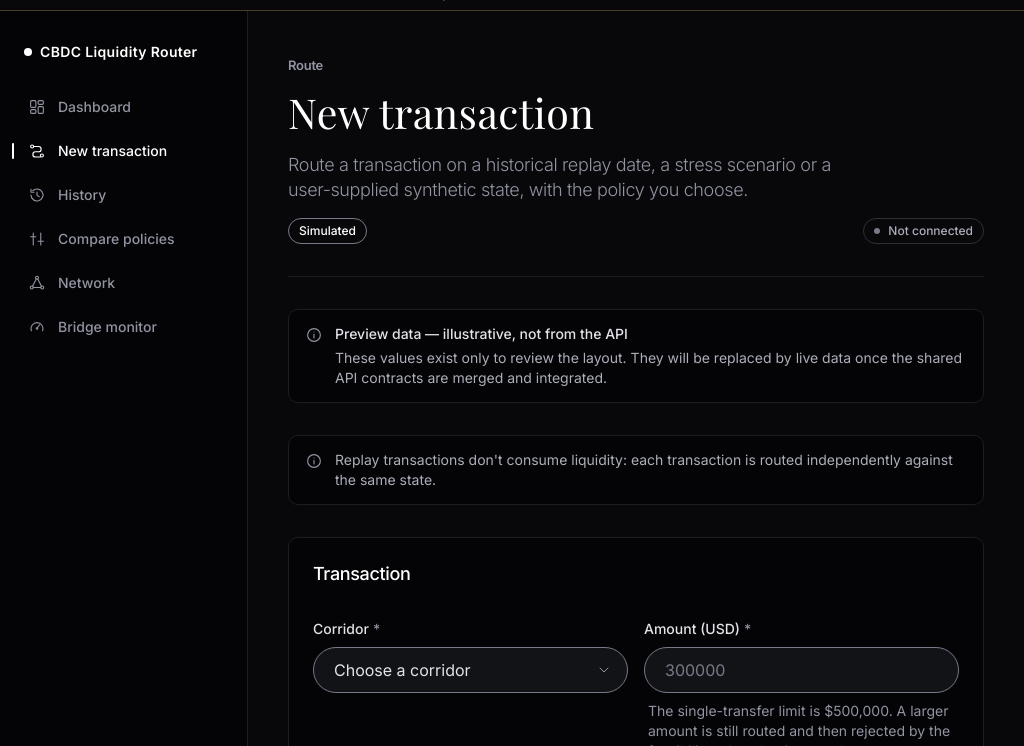
Test: validation › does not check date eligibility itself: the engine decides
Select "GBR → PHL" in the dropdown labelled "Corridor": [470, 670] box [313,647,628,693]
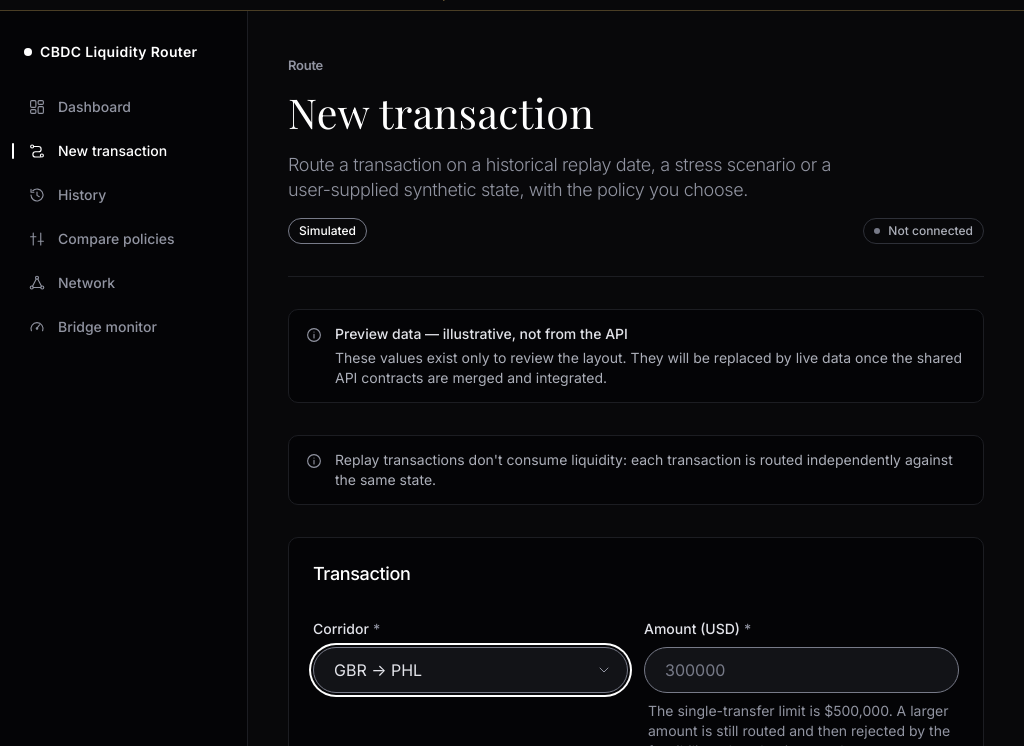
In the field labelled "Amount (USD)": [802, 670] box [644,647,959,693], type "100000"
(page scrolled)
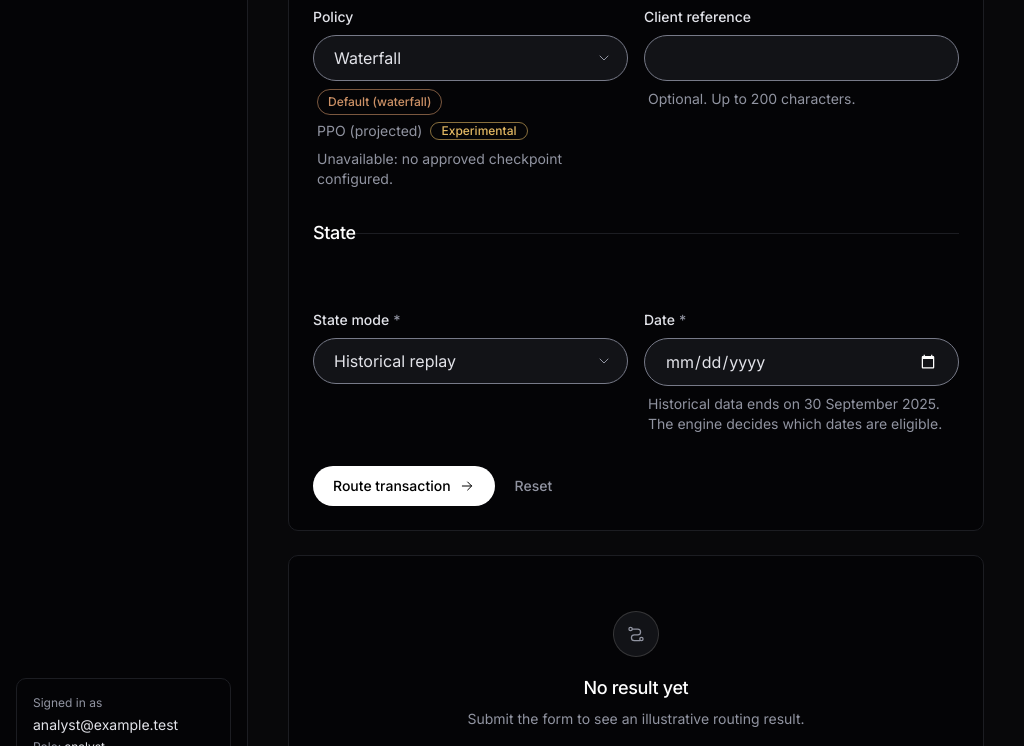
In the date field labelled "Date*": [802, 362] box [644,338,959,386], type "2030-01-01"
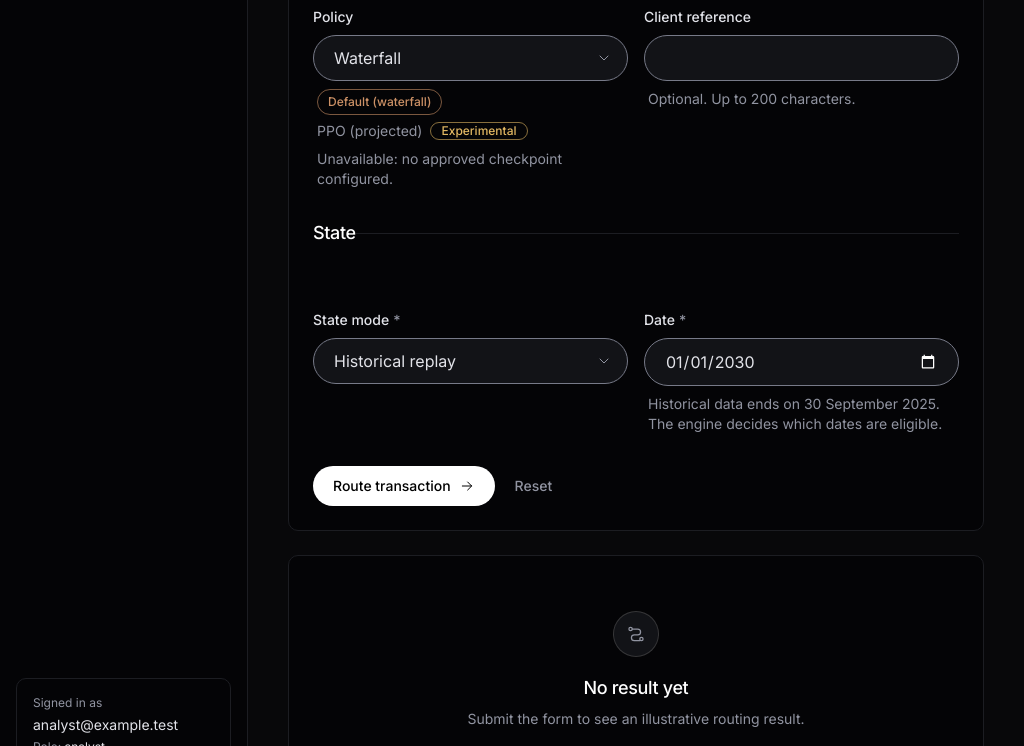
Click the button "Route transaction": [404, 486] box [313,466,495,506]
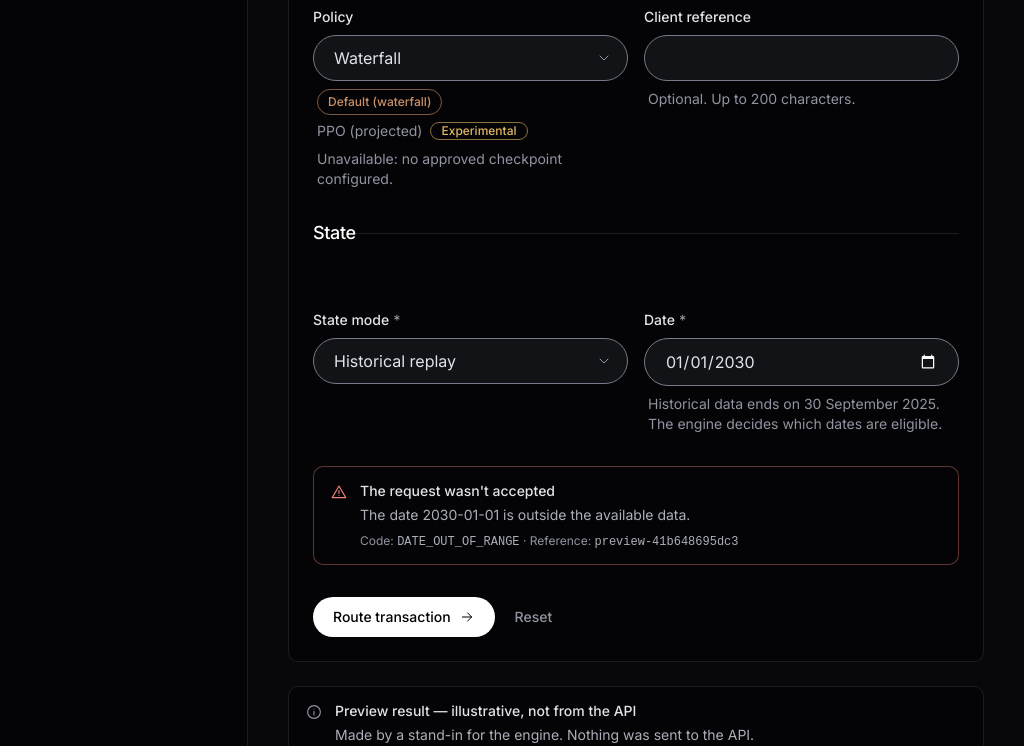
Expected: the message shows "DATE_OUT_OF_RANGE", [397,535,520,549]
